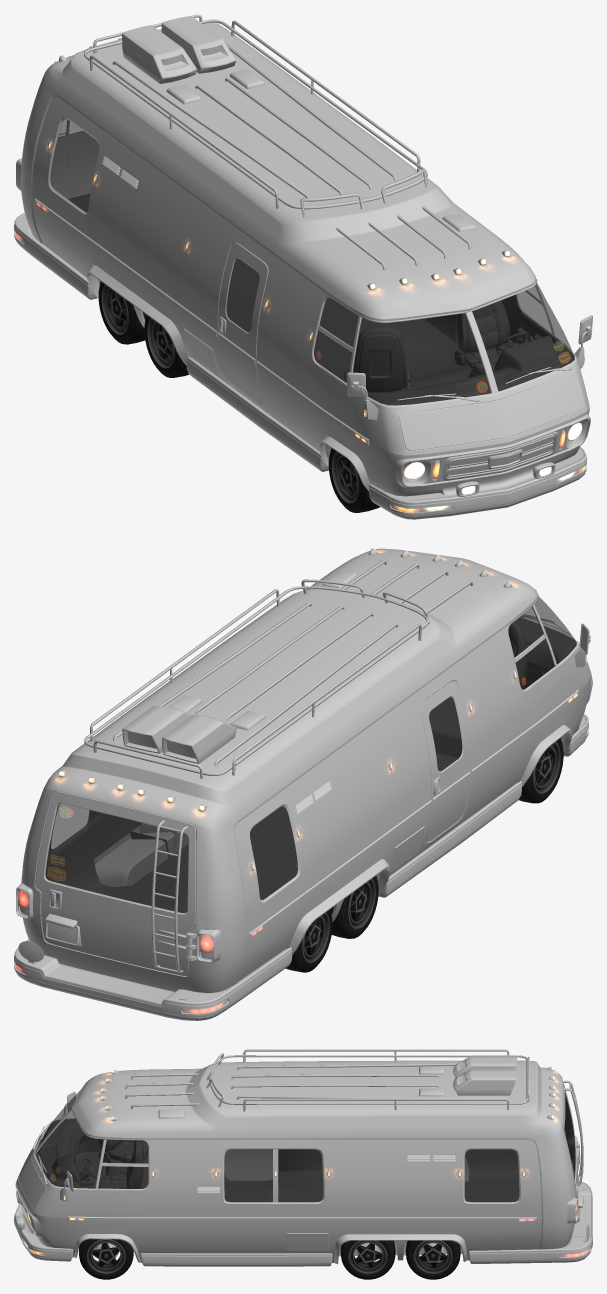
3 views of the same model, one above another, from view 1: azimuth 30°, elevation 25°; view 2: azimuth 150°, elevation 25°; view 3: azimuth 270°, elevation 25° (orthographic). The views are drawn at different scales.
Visible parts, largest first — view 1: Exterior, Windows, Interior, Chair 2, Chair, Wheel 3, Wheels, Wheel 2; view 2: Exterior, Windows, Interior, Wheel 2, Wheels, Wheel 3, Chair 2; view 3: Exterior, Windows, Interior, Wheel 3, Wheel 2, Wheels, Chair, Chair 2.
Part boxes in pixels (x1,y1,x2,y2): Exterior: [14, 14, 592, 519]; Windows: [50, 119, 574, 405]; Interior: [50, 149, 574, 405]; Chair 2: [344, 327, 413, 392]; Chair: [454, 300, 522, 375]; Wheel 3: [98, 281, 146, 344]; Wheels: [328, 448, 379, 512]; Wheel 2: [144, 315, 188, 377]; Exterior: [14, 548, 592, 1020]; Windows: [45, 597, 576, 912]; Interior: [45, 617, 576, 912]; Wheel 2: [330, 876, 378, 938]; Wheels: [519, 738, 563, 803]; Wheel 3: [285, 909, 332, 972]; Chair 2: [508, 621, 527, 688]; Exterior: [14, 1049, 592, 1266]; Windows: [35, 1089, 575, 1202]; Interior: [36, 1092, 575, 1202]; Wheel 3: [405, 1240, 460, 1279]; Wheel 2: [340, 1240, 395, 1279]; Wheels: [79, 1239, 133, 1279]; Chair: [98, 1140, 144, 1188]; Chair 2: [97, 1139, 148, 1163].
Bounding box in the file's own units: 3.21 × 3.18 × 9.29.
